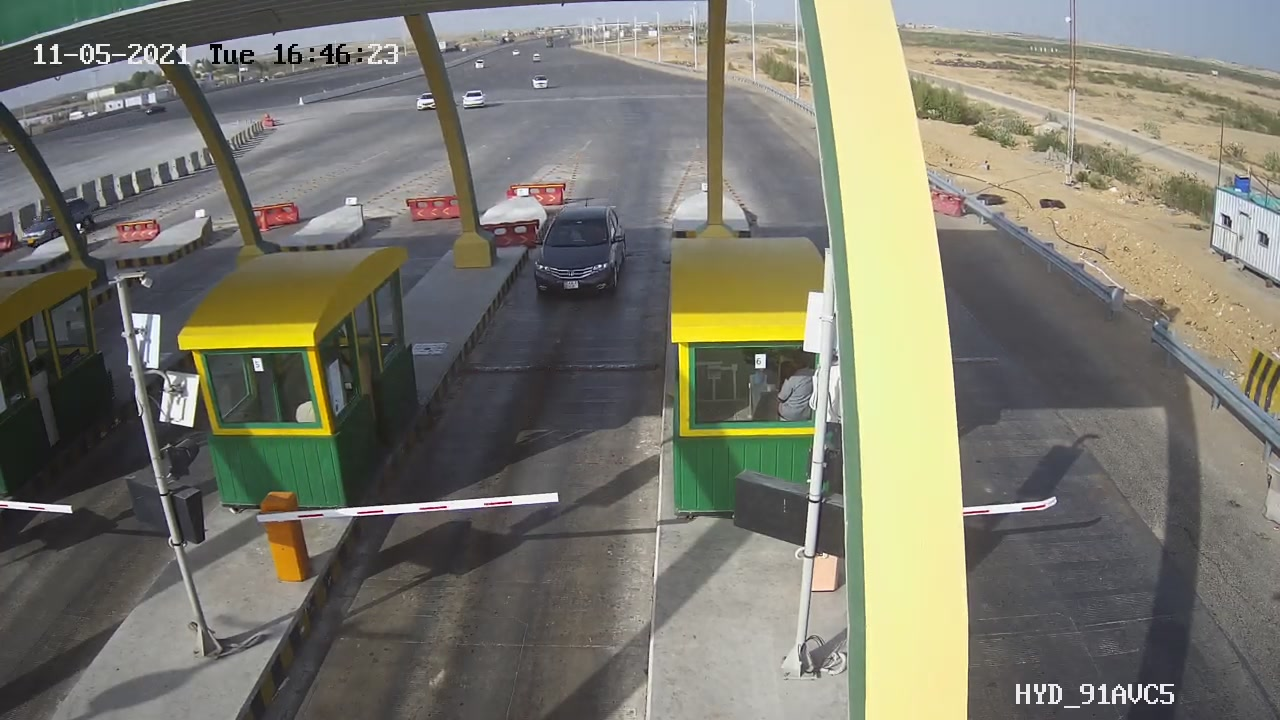F1: (513, 190, 645, 312)
